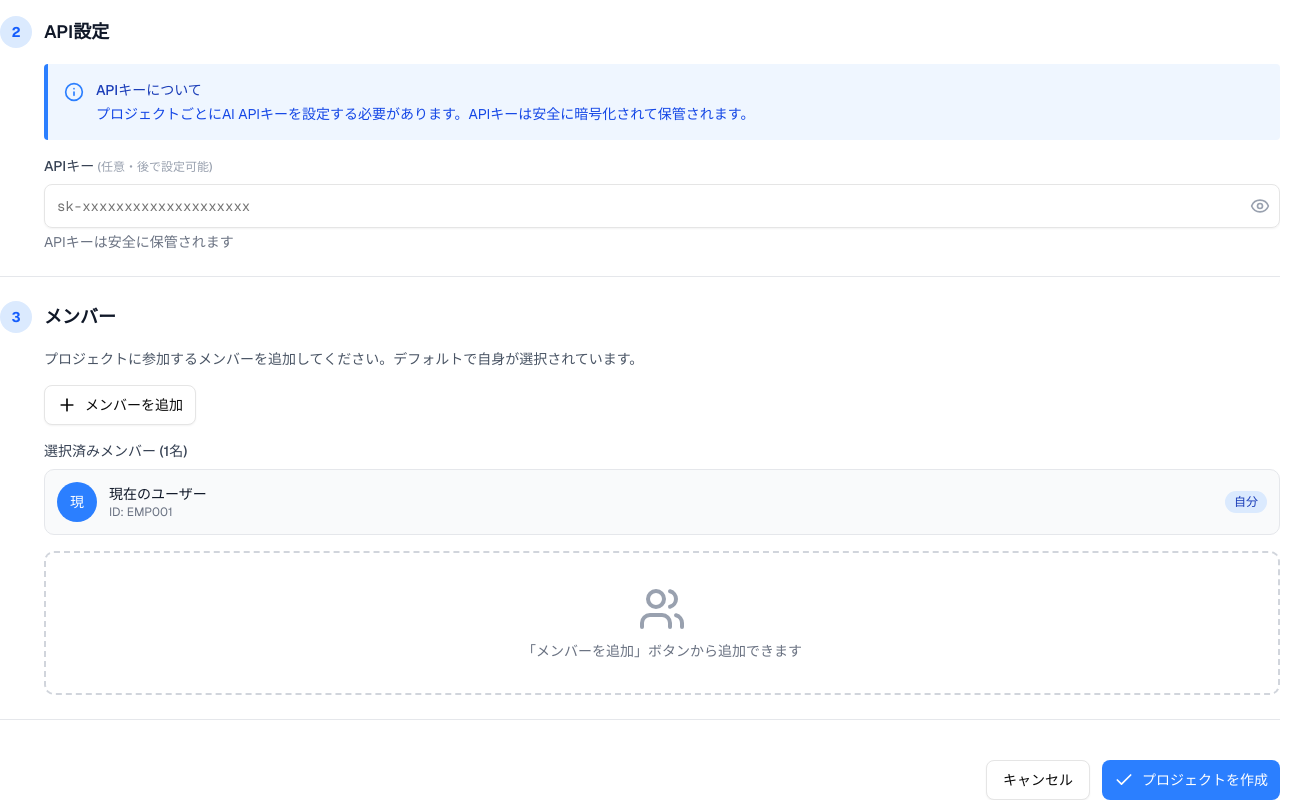
ProjectForm › バリデーション › プロジェクト名が空の場合はエラーが表示される
(page scrolled)
Click the button "プロジェクトを作成" at (1191, 780), box [1102, 760, 1280, 799]
(page scrolled)
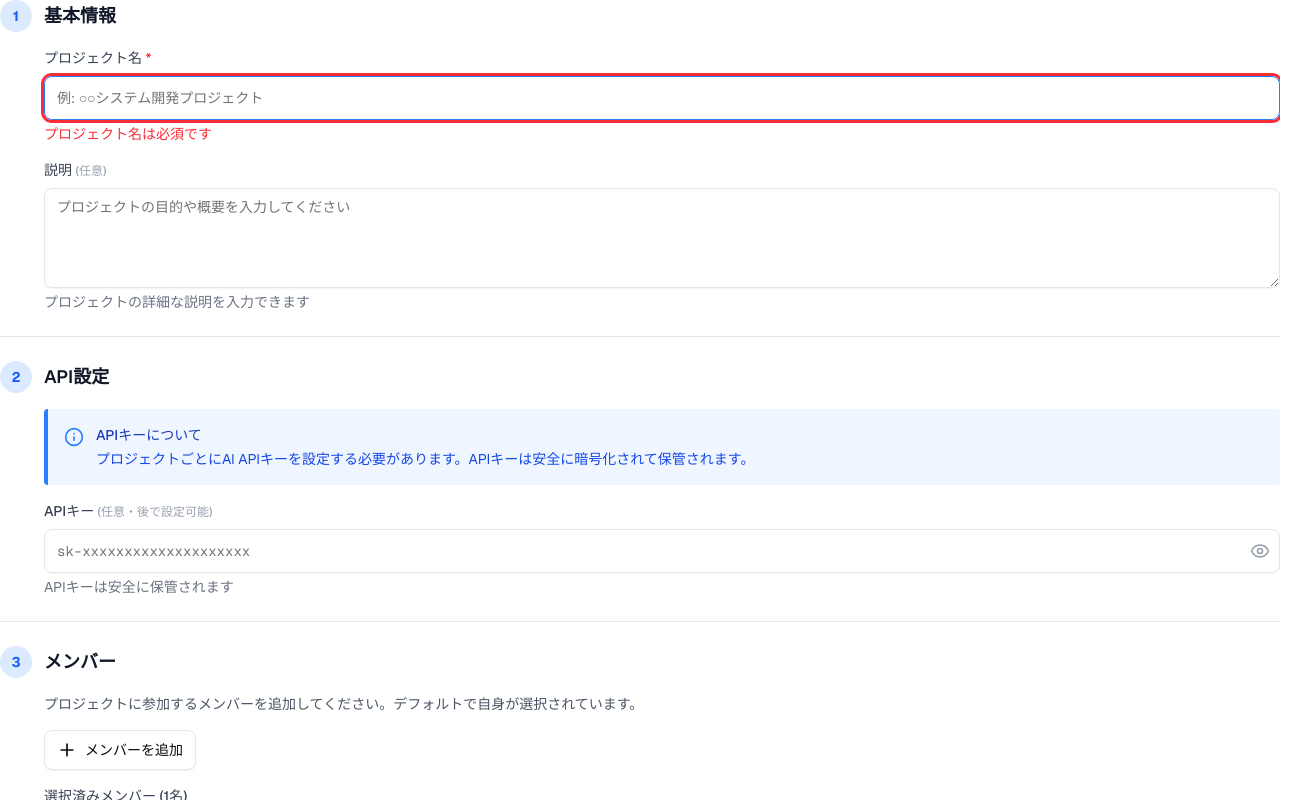
Now the text "プロジェクト名は必須です" is shown, box [44, 125, 212, 143]
